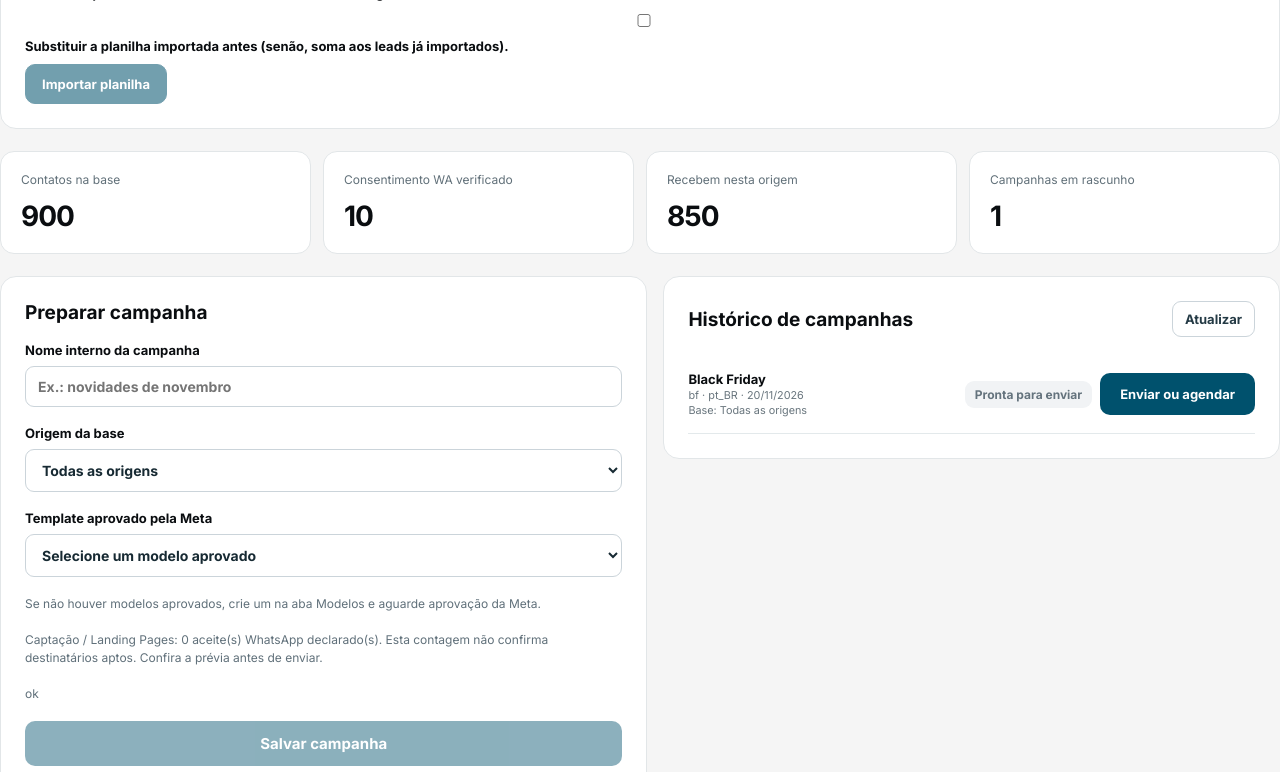
it: Disparos em massa › mostra envio liberado, quantos recebem e envia depois de confirmar o risco
The width and height of the screenshot is (1280, 772).
(page scrolled)
Step 1. Click the button "Enviar ou agendar" → x=1178, y=394, box x1=1100 y1=373 x2=1255 y2=415
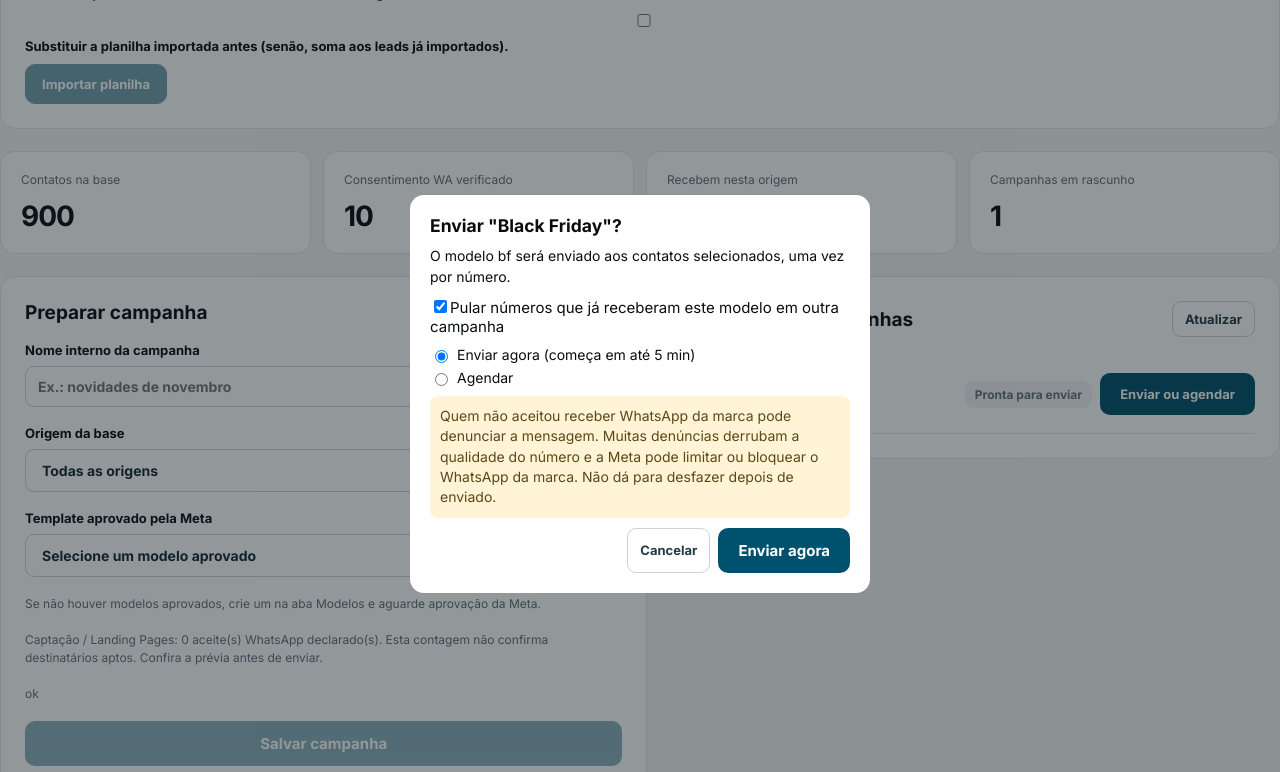
Check: the dialog shows "bloquear o WhatsApp da marca", box x1=440 y1=407 x2=818 y2=505
Step 2. Click the button "Enviar agora" → x=784, y=550, box x1=718 y1=528 x2=850 y2=572
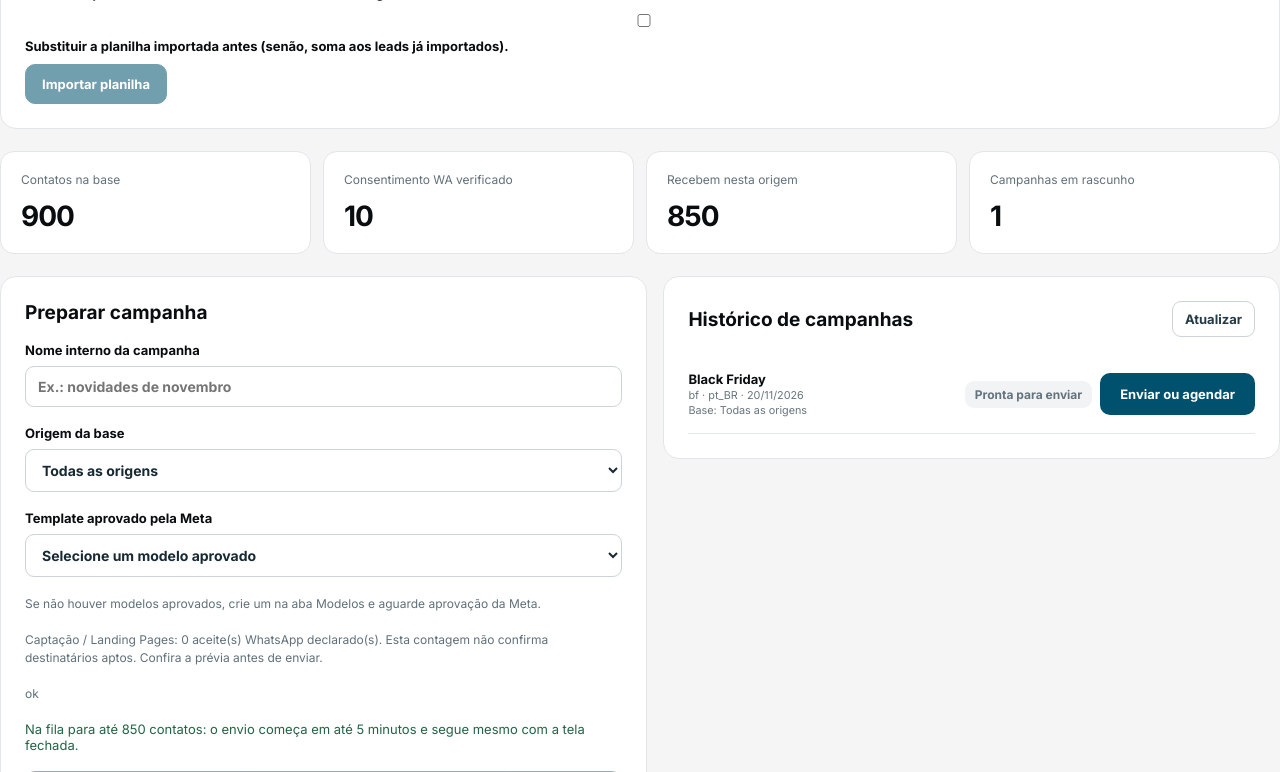
Check: the text "Na fila para até 850 contatos" is shown, box x1=25 y1=721 x2=585 y2=753
